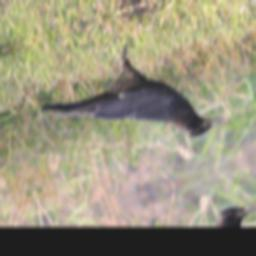Crow: (24, 19, 229, 181)
